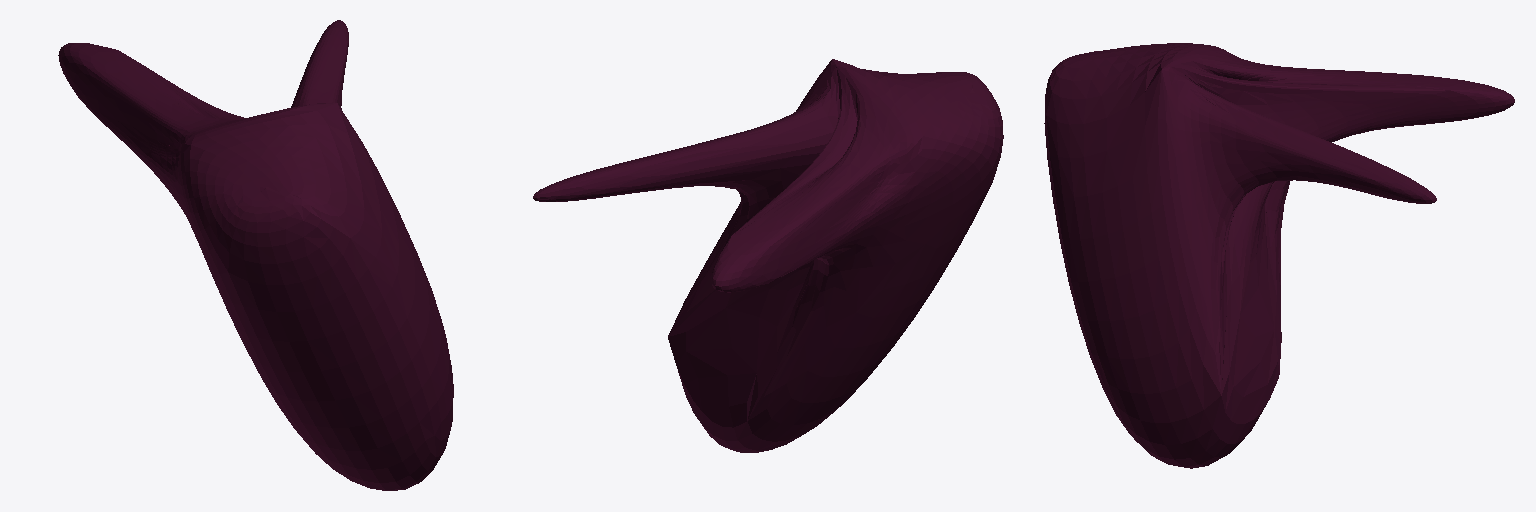
The robot description file, URDF, robot "blob928":

<robot name="blob928">
  <link name="random_obj_928">
    <contact>
      <lateral_friction value="1.0"/>
      <rolling_friction value="0.0"/>
      <inertia_scaling value="3.0"/>
      <contact_cfm value="0.0"/>
      <contact_erp value="1.0"/>
    </contact>
    <inertial>
      <origin rpy="0 0 0" xyz="0 0 0"/>
      <mass value="0.0939"/>
      <inertia ixx="1" ixy="0" ixz="0" iyy="1" iyz="0" izz="0"/>
    </inertial>
    <visual>
      <origin rpy="0 0 0" xyz="0 0 0"/>
      <geometry>
        <mesh filename="928.obj" scale="0.0073 0.0073 0.0073"/>
      </geometry>
      <material name="blockmat">
        <color rgba="0.28 0.10 0.20 1"/>
      </material>
    </visual>
    <collision>
      <origin rpy="0 0 0" xyz="0 0 0"/>
      <geometry>
        <mesh filename="928_coll.obj" scale="0.0073 0.0073 0.0073"/>
      </geometry>
    </collision>
  </link>
</robot>

--- What the picture shows (computed from the rendered views, not written in the file) ---
The picture shows the robot from 3 angles, left to right: view 1: azimuth 30°, elevation 25°; view 2: azimuth 150°, elevation 25°; view 3: azimuth 270°, elevation 25°; orthographic projection.
Model blob928 with 1 links and 0 joints (none), rooted at random_obj_928, posed every joint at zero.
Visible links, largest first — view 1: random_obj_928; view 2: random_obj_928; view 3: random_obj_928.
Boxes of the visible links, box(x1,y1,x2,y2) form: random_obj_928: box(58, 20, 453, 490); random_obj_928: box(533, 59, 1003, 452); random_obj_928: box(1044, 43, 1514, 468).
Size in the robot's own frame: 0.0596 by 0.0891 by 0.0761 metres.
Meshes: 1 distinct files referenced, 1 mesh visuals loaded (1 OBJ).
